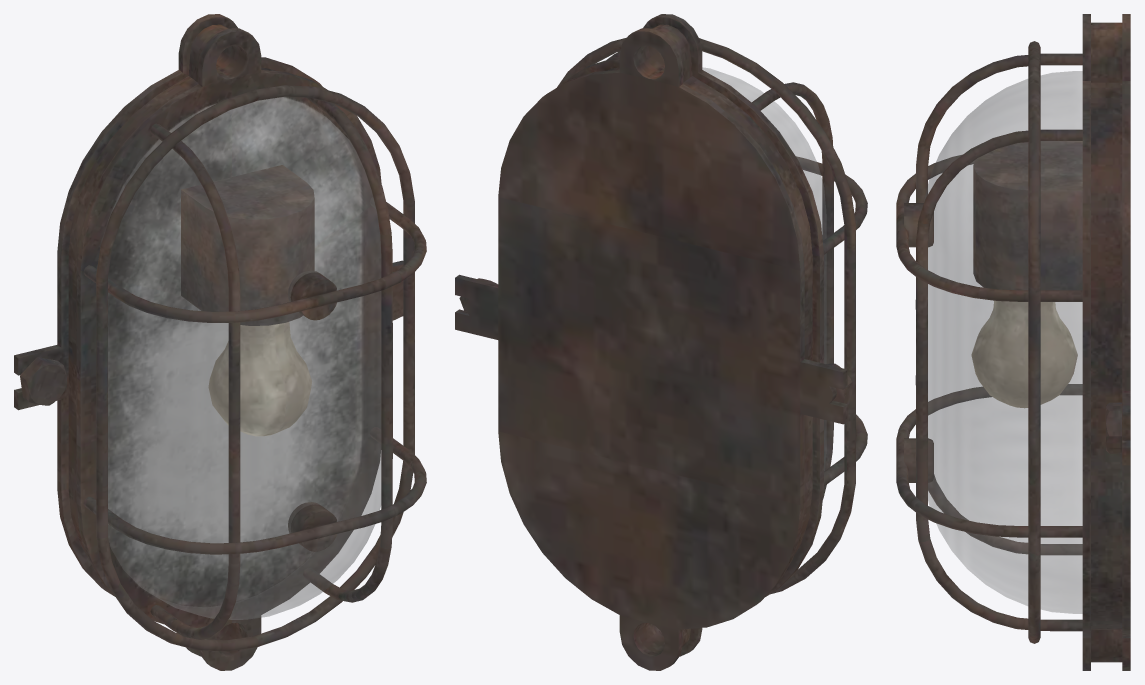
Rendered from industrial_wall_lamp.glb.
The picture shows the model from 3 angles, left to right: view 1: azimuth 30°, elevation 25°; view 2: azimuth 150°, elevation 25°; view 3: azimuth 270°, elevation 25°; orthographic projection.
Visible parts, largest first — view 1: industrial_wall_lamp; view 2: industrial_wall_lamp; view 3: industrial_wall_lamp.
Part boxes in pixels (box(x1,y1,x2,y2)): industrial_wall_lamp: box(14, 14, 426, 670); industrial_wall_lamp: box(455, 14, 867, 670); industrial_wall_lamp: box(896, 14, 1130, 670).
Size of the model in its own units: 0.2734 by 0.4299 by 0.1404.
Materials: 2 (2 with a texture image).
